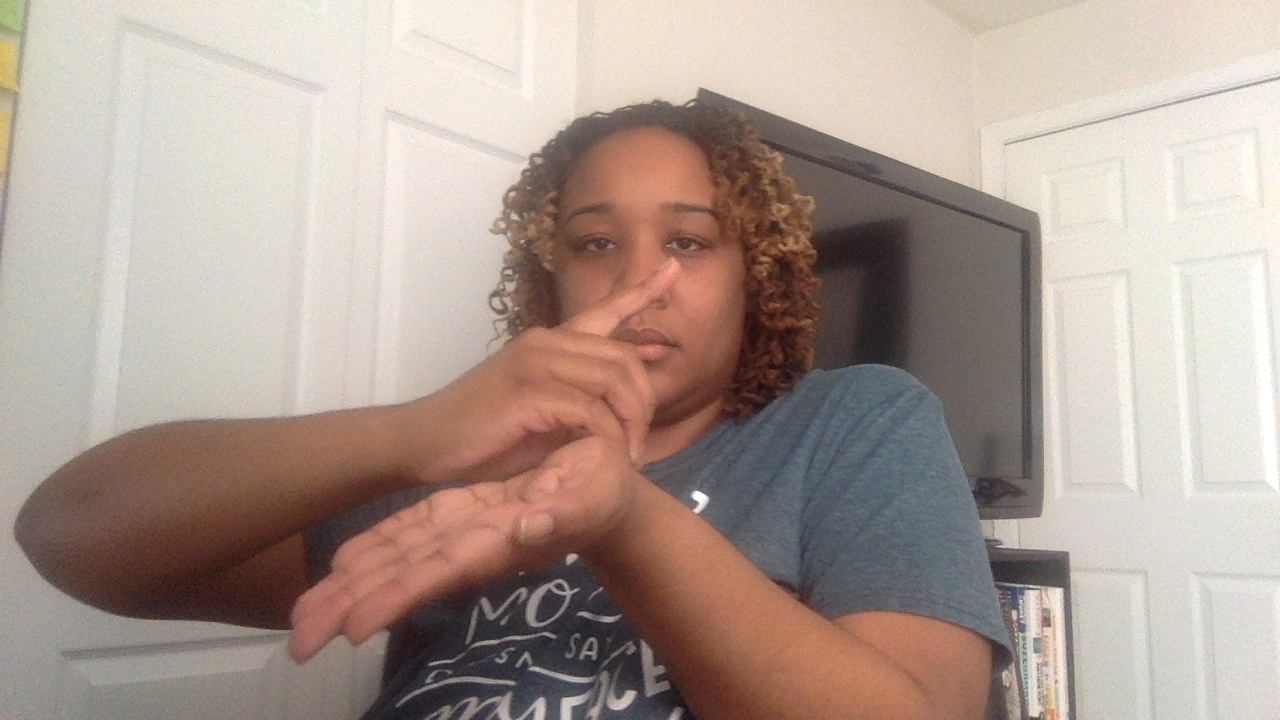doctor: (292, 258, 686, 670)
